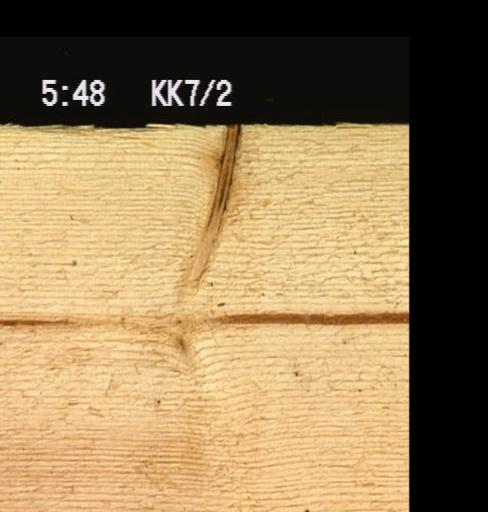dry_knot: (173, 122, 244, 304)
